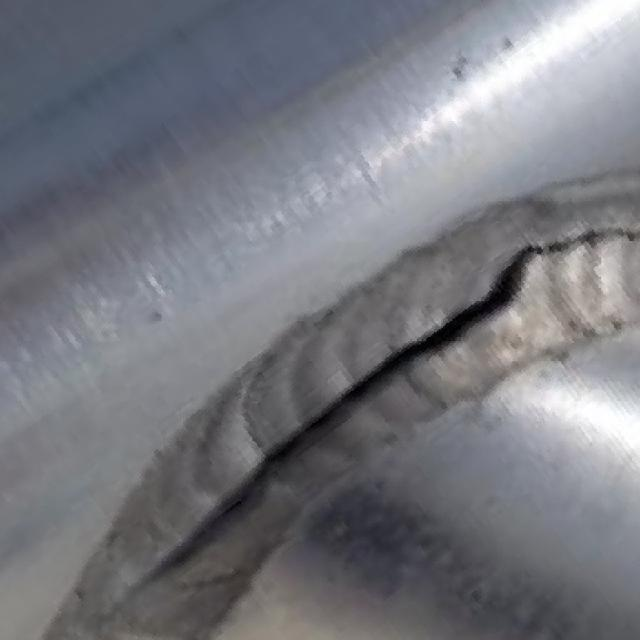crack: (156, 445, 277, 565), (286, 345, 428, 443), (423, 257, 526, 354), (523, 228, 639, 249)
